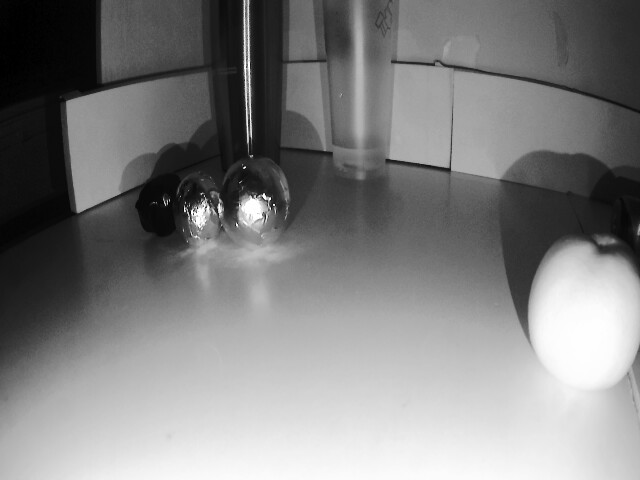black: (223, 157, 287, 243), (180, 176, 221, 251)
silver: (132, 176, 190, 237)
